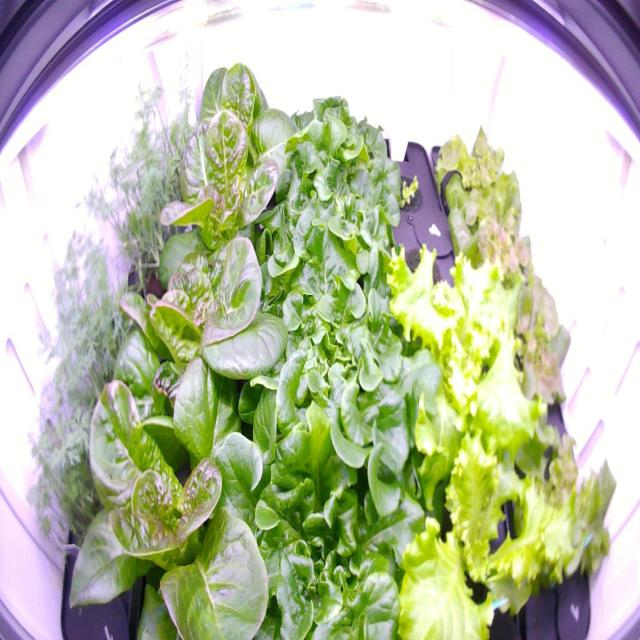Ready: (50, 354, 294, 639), (90, 209, 294, 450), (152, 111, 304, 311), (170, 47, 304, 198)
